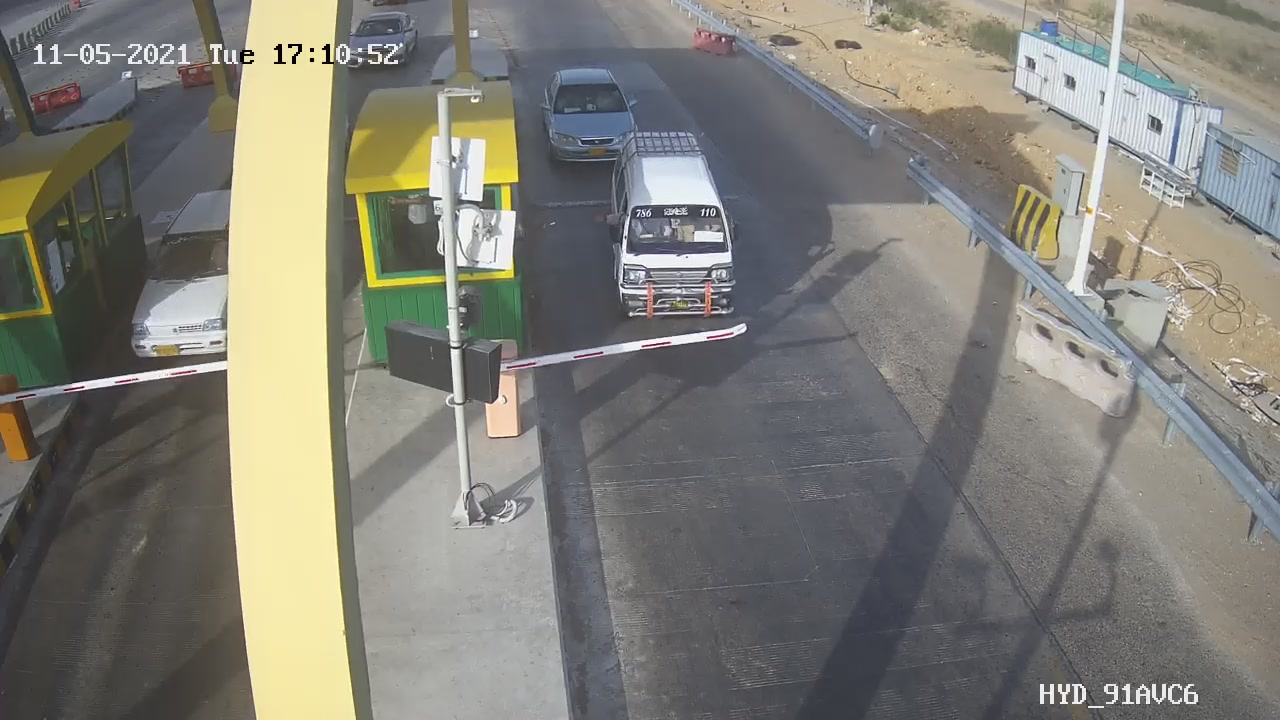F1: (586, 114, 765, 338), (525, 55, 668, 181)
